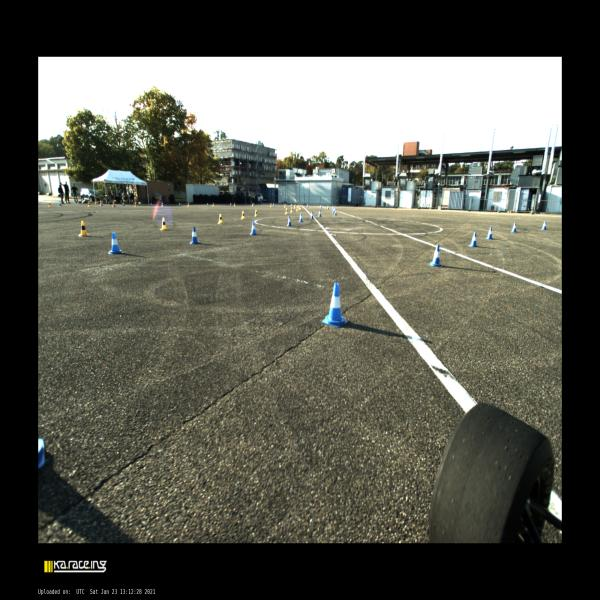blue_cone: (322, 283, 348, 327), (108, 232, 124, 254), (430, 245, 442, 267), (38, 438, 45, 469), (190, 226, 201, 244), (468, 232, 478, 247), (250, 221, 257, 235), (486, 227, 493, 239), (510, 223, 516, 232), (541, 221, 547, 230), (287, 216, 292, 226), (299, 213, 304, 222), (310, 212, 314, 220), (318, 209, 321, 217), (334, 210, 337, 215), (59, 201, 62, 206), (122, 202, 125, 206), (332, 208, 334, 214), (320, 204, 322, 209), (334, 206, 336, 211), (272, 202, 274, 206), (306, 204, 308, 208), (327, 205, 329, 209), (332, 206, 334, 210), (179, 202, 180, 206), (151, 202, 152, 206), (230, 203, 231, 206), (207, 203, 208, 206), (291, 204, 292, 206)
large_orange_cone: (112, 200, 115, 207), (100, 199, 103, 206)
yellow_cone: (79, 221, 89, 237), (160, 218, 168, 230), (218, 214, 225, 224), (241, 210, 245, 220), (254, 209, 258, 217), (48, 201, 52, 207), (285, 208, 288, 214), (290, 207, 293, 213), (270, 202, 272, 208), (88, 202, 90, 207), (134, 202, 136, 207), (161, 202, 163, 207), (187, 202, 189, 207), (252, 202, 254, 207), (296, 206, 298, 211), (300, 205, 302, 210), (294, 204, 296, 209), (212, 202, 214, 206), (284, 204, 286, 208), (298, 204, 299, 210), (234, 202, 235, 207)
